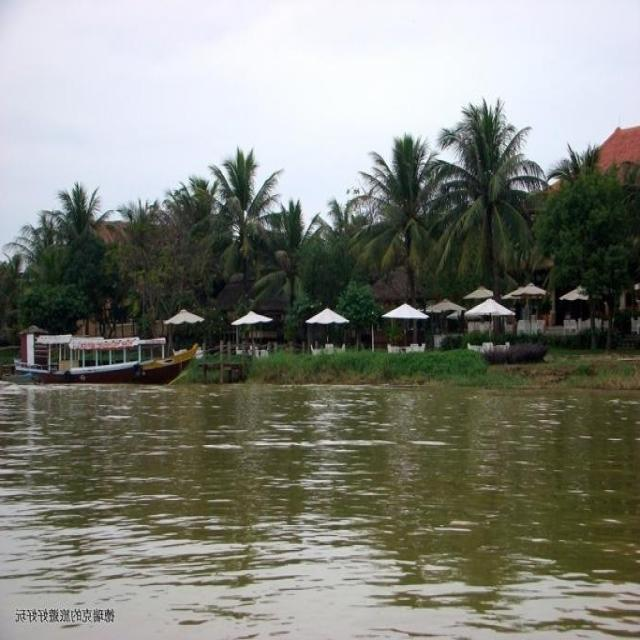boat: (60, 334, 197, 387)
